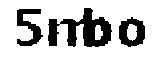5: (13, 5, 43, 48)
b: (88, 4, 115, 51)
m: (48, 16, 88, 54)
o: (118, 15, 149, 51)
